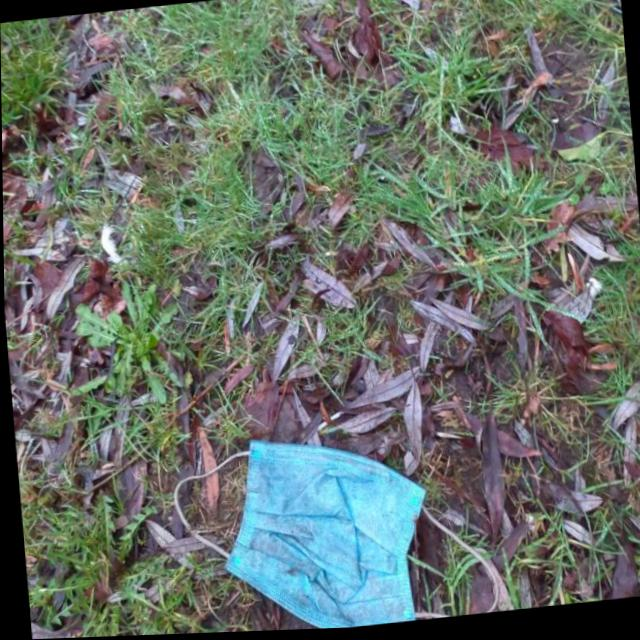Mask: (167, 412, 499, 635)
